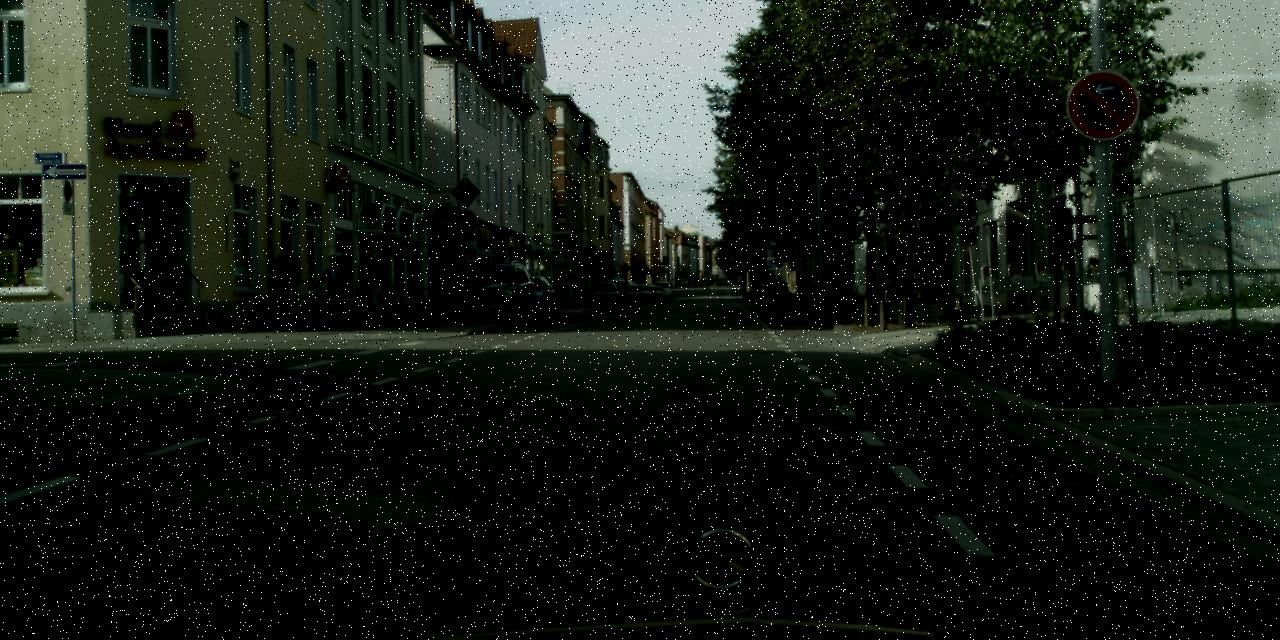ped: (271, 243, 305, 328), (356, 248, 388, 327), (319, 254, 348, 328), (688, 276, 698, 288), (704, 278, 709, 289)
